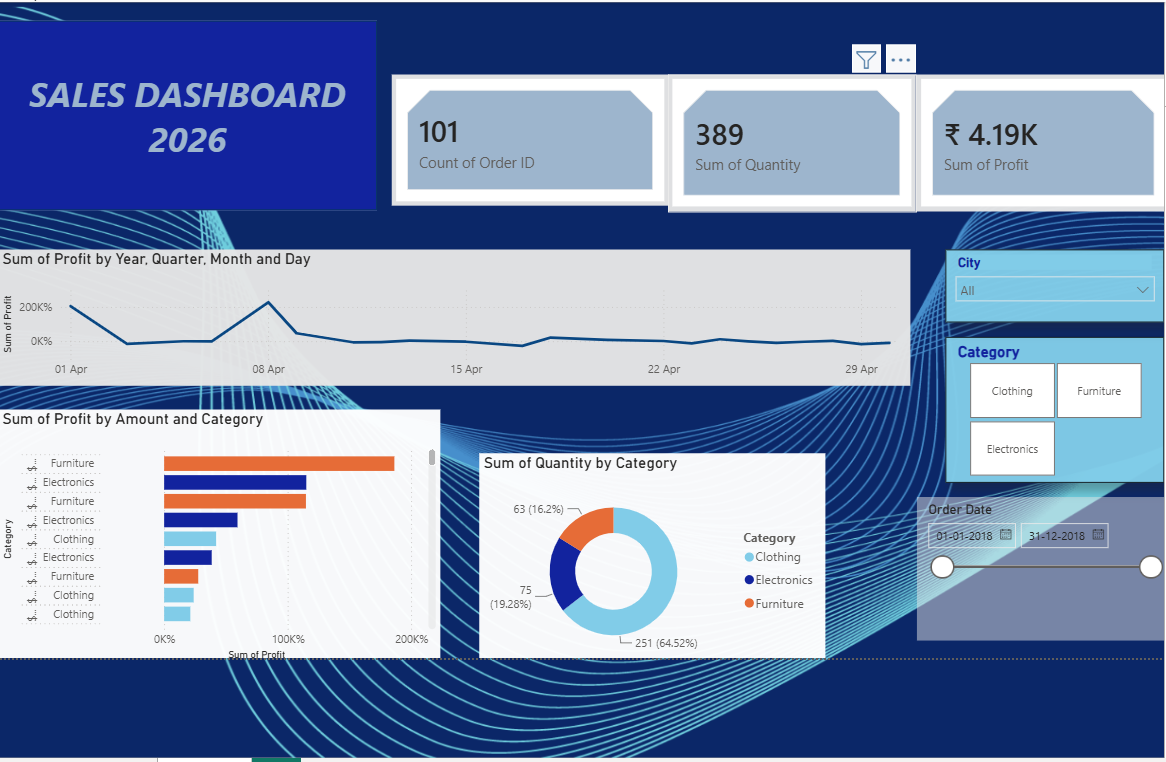

The page's visual inventory and layout, read from the dashboard file:
{"tool":"powerbi","page":{"name":"Page 1","canvas":[1280,720],"ordinal":0},"visuals":[{"type":"clusteredBarChart","fields":{"Category":["Details.Amount","Details.Category"],"Y":["Sum(Details.Profit)"]},"box":[0,448,485.8,279.9],"z":0},{"type":"lineChart","fields":{"Y":["Sum(Details.Profit)"],"Category":["Orders.Order Date.Variation.Date Hierarchy.Year","Orders.Order Date.Variation.Date Hierarchy.Quarter","Orders.Order Date.Variation.Date Hierarchy.Month","Orders.Order Date.Variation.Date Hierarchy.Day"]},"box":[0,272,1001.7,149.6],"z":1000},{"type":"donutChart","fields":{"Category":["Details.Category"],"Y":["Sum(Details.Quantity)"]},"box":[528,496,380.1,229.2],"z":2000},{"type":"cardVisual","fields":{"Data":["CountNonNull(Details.Order ID)"]},"box":[432,80,304,144],"z":3000},{"type":"cardVisual","fields":{"Data":["Sum(Details.Quantity)"]},"box":[736,80,272,150],"z":4000},{"type":"cardVisual","fields":{"Data":["Sum(Details.Profit)"]},"box":[1008,80,278,150],"z":5000},{"type":"slicer","fields":{"Values":["Orders.Order Date"]},"box":[1008,544,278.6,157.8],"z":6000},{"type":"shape","box":[0,0,416,208],"z":7000},{"type":"slicer","fields":{"Values":["Details.Category"]},"box":[1040,368,240,160],"z":8000},{"type":"slicer","fields":{"Values":["Orders.City"]},"box":[1040,272,240,80],"z":9000}]}

Visuals, with their boxes in screenshot pixels (x1, y1, x2, y2):
clusteredBarChart - Details.Amount x Details.Category: [left=3, top=405, right=439, bottom=657]
lineChart - Sum(Details.Profit) x Orders.Order Date.Variation.Date Hierarchy.Year: [left=3, top=247, right=903, bottom=382]
donutChart - Details.Category x Sum(Details.Quantity): [left=477, top=449, right=819, bottom=655]
cardVisual - CountNonNull(Details.Order ID): [left=391, top=75, right=664, bottom=204]
cardVisual - Sum(Details.Quantity): [left=664, top=75, right=909, bottom=210]
cardVisual - Sum(Details.Profit): [left=909, top=75, right=1158, bottom=210]
slicer - Orders.Order Date: [left=909, top=492, right=1159, bottom=633]
shape: [left=3, top=3, right=377, bottom=190]
slicer - Details.Category: [left=937, top=334, right=1153, bottom=477]
slicer - Orders.City: [left=937, top=247, right=1153, bottom=319]
